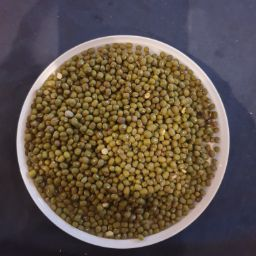Green gram dal(moong): (6, 30, 244, 253), (111, 39, 168, 256), (17, 65, 79, 236), (67, 51, 121, 240), (158, 52, 220, 214), (67, 96, 181, 182)
